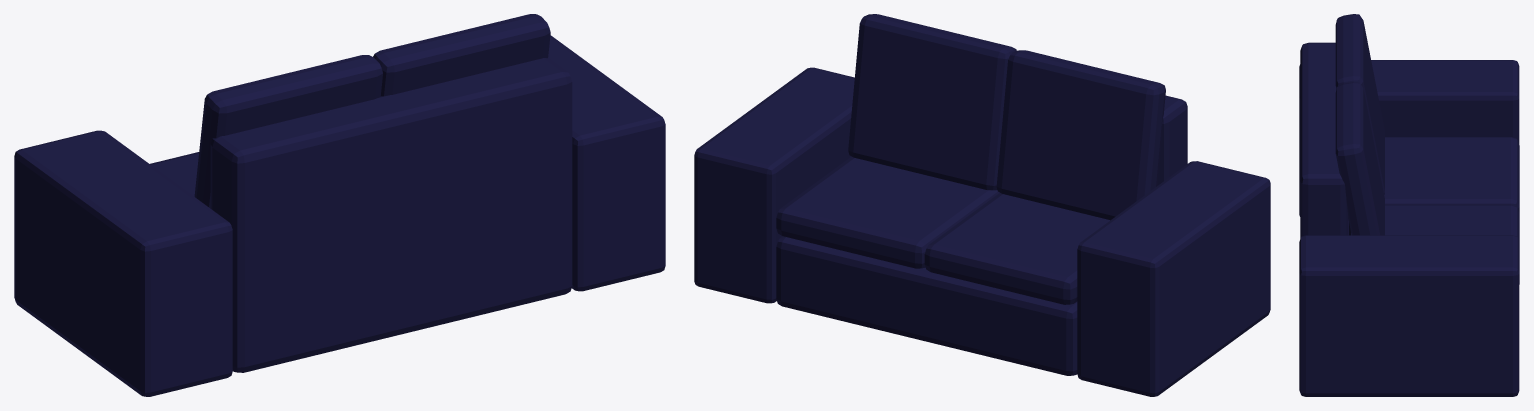
The model's file is sofa.fbx.
The picture shows the model from 3 angles, left to right: view 1: azimuth 30°, elevation 25°; view 2: azimuth 150°, elevation 25°; view 3: azimuth 270°, elevation 25°; orthographic projection. The views are drawn at different scales.
Parts seen in each view (by area): view 1: Box071, Box076, Box069, Box078, Box075, Box077; view 2: Box076, Box071, Box069, Box078, Box075, Box073, Box077; view 3: Box069, Box076, Box077, Box071, Box075, Box073, Box078.
Boxes of the visible parts, bbox=[...] form: Box071: bbox=[210, 58, 572, 372]; Box076: bbox=[14, 130, 232, 396]; Box069: bbox=[548, 35, 665, 291]; Box078: bbox=[194, 55, 382, 208]; Box075: bbox=[373, 14, 550, 96]; Box077: bbox=[150, 152, 198, 196]; Box076: bbox=[1077, 161, 1270, 396]; Box071: bbox=[776, 95, 1187, 375]; Box069: bbox=[694, 67, 854, 303]; Box078: bbox=[996, 50, 1165, 220]; Box075: bbox=[848, 14, 1016, 190]; Box073: bbox=[776, 156, 999, 268]; Box077: bbox=[924, 193, 1109, 304]; Box069: bbox=[1299, 235, 1519, 396]; Box076: bbox=[1299, 60, 1519, 216]; Box077: bbox=[1384, 137, 1519, 212]; Box071: bbox=[1300, 42, 1348, 238]; Box075: bbox=[1335, 82, 1384, 235]; Box073: bbox=[1349, 204, 1519, 284]; Box078: bbox=[1335, 14, 1384, 194].
Bounding box in the file's own units: 35.11 × 16.5 × 15.38.
